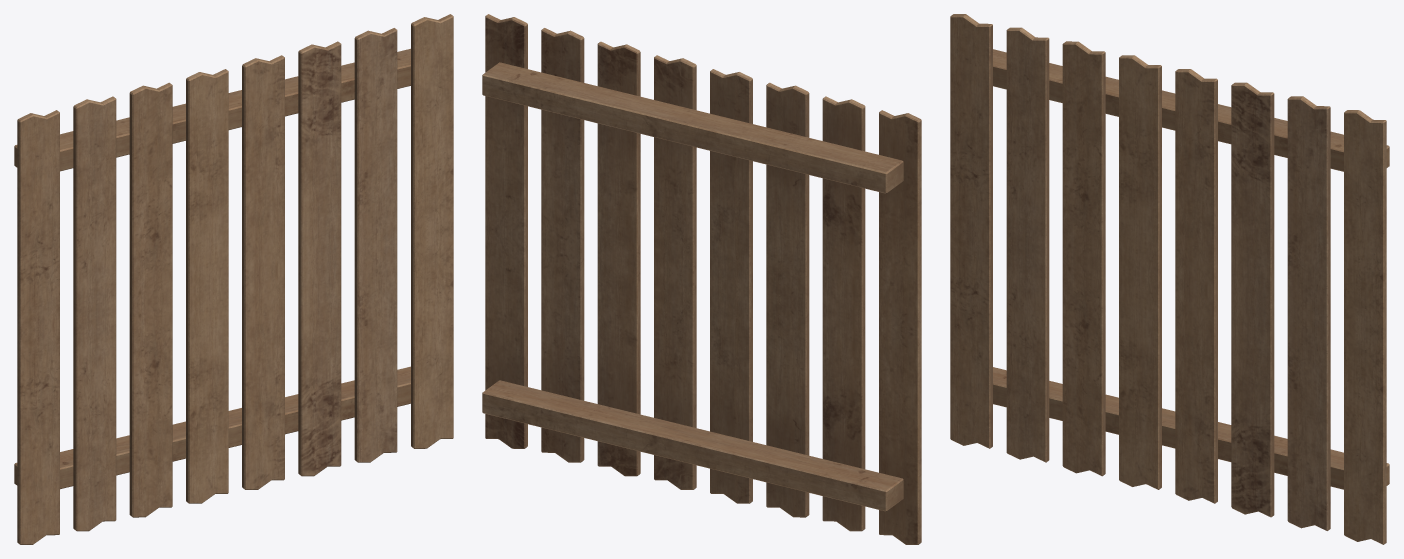
The picture shows the model from 3 angles, left to right: view 1: azimuth 30°, elevation 25°; view 2: azimuth 150°, elevation 25°; view 3: azimuth 330°, elevation 25°; orthographic projection.
Visible parts, largest first — view 1: 木制托盘_立方体.002; view 2: 木制托盘_立方体.002; view 3: 木制托盘_立方体.002.
Boxes of the visible parts, x1,y1,x2,y2 form: 木制托盘_立方体.002: (14, 14, 453, 544); 木制托盘_立方体.002: (482, 14, 921, 544); 木制托盘_立方体.002: (950, 14, 1389, 544).
Size of the model in its own units: 0.4289 by 0.406 by 0.036.
Materials: 1 (1 with a texture image).
